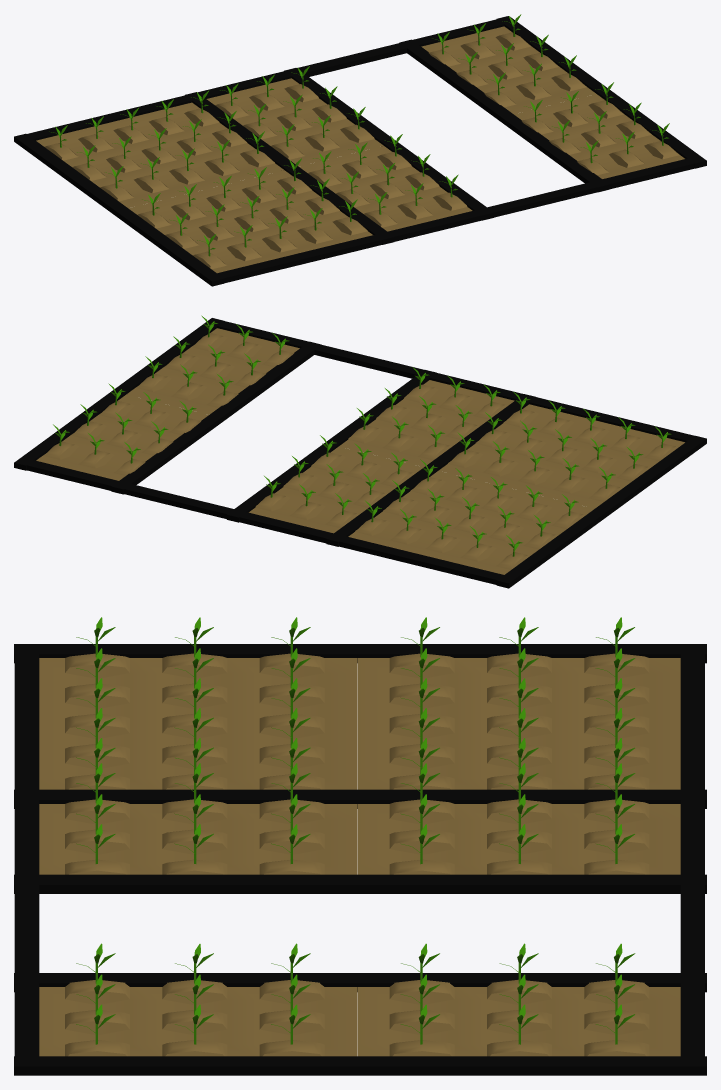
The model's file is plantage.fbx.
The picture shows the model from 3 angles, top to bottom: view 1: azimuth 30°, elevation 25°; view 2: azimuth 150°, elevation 25°; view 3: azimuth 270°, elevation 25°; orthographic projection. The views are drawn at different scales.
Visible parts, largest first — view 1: pCube76; view 2: pCube76; view 3: pCube76.
Boxes of the visible parts, x1,y1,x2,y2 form: pCube76: [14, 14, 706, 286]; pCube76: [14, 315, 706, 588]; pCube76: [14, 617, 706, 1075].
Bounding box in the file's own units: 125 × 6.92 × 86.96.
